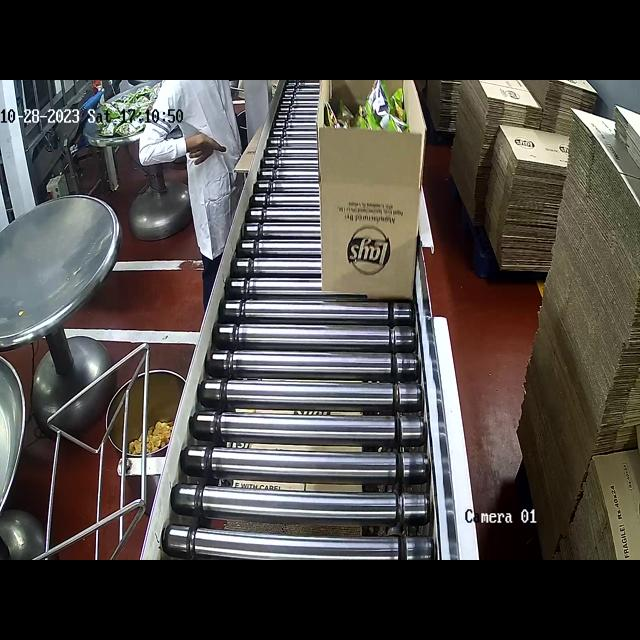yogurt: (334, 83, 424, 140)
